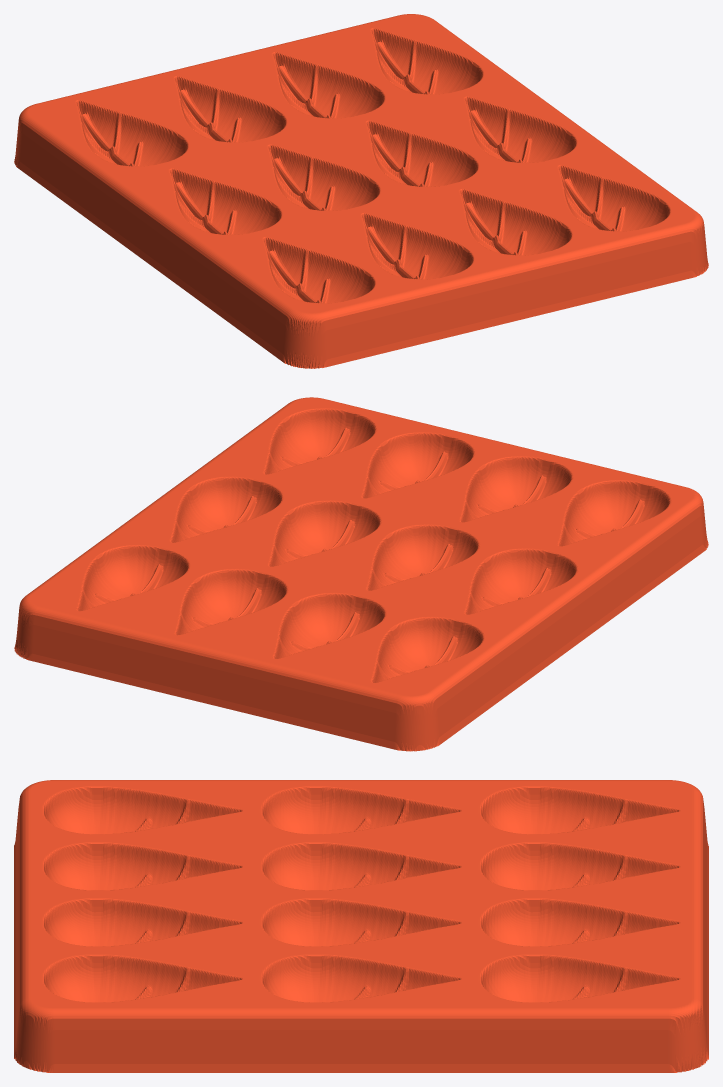
File: mold.glb
3 views of the same model, one above another, from view 1: azimuth 30°, elevation 25°; view 2: azimuth 150°, elevation 25°; view 3: azimuth 270°, elevation 25° (orthographic). The views are drawn at different scales.
Parts seen in each view (by area): view 1: geometry_0; view 2: geometry_0; view 3: geometry_0.
Part boxes in pixels (left/top/right/bottom): geometry_0: left=14, top=14, right=708, bottom=368; geometry_0: left=14, top=397, right=708, bottom=751; geometry_0: left=14, top=780, right=708, bottom=1072.
Bounding box in the file's own units: 0.1291 × 0.0145 × 0.1575.
